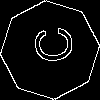C: (25, 25, 74, 66)
